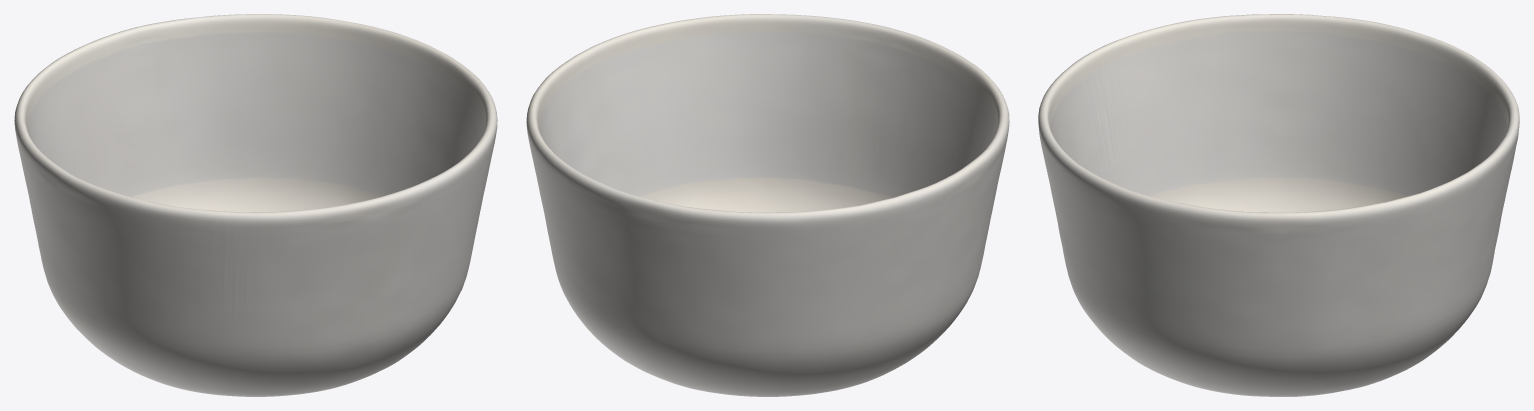
3 views of the same model, side by side, from view 1: azimuth 30°, elevation 25°; view 2: azimuth 150°, elevation 25°; view 3: azimuth 270°, elevation 25° (orthographic).
Visible parts, largest first — view 1: model; view 2: model; view 3: model.
Boxes of the visible parts, x1,y1,x2,y2 form: model: (14,14,497,396); model: (526,14,1009,396); model: (1038,14,1519,396).
Size of the model in its own units: 1.95 by 1 by 1.95.
Materials: 1 (1 with a texture image).
